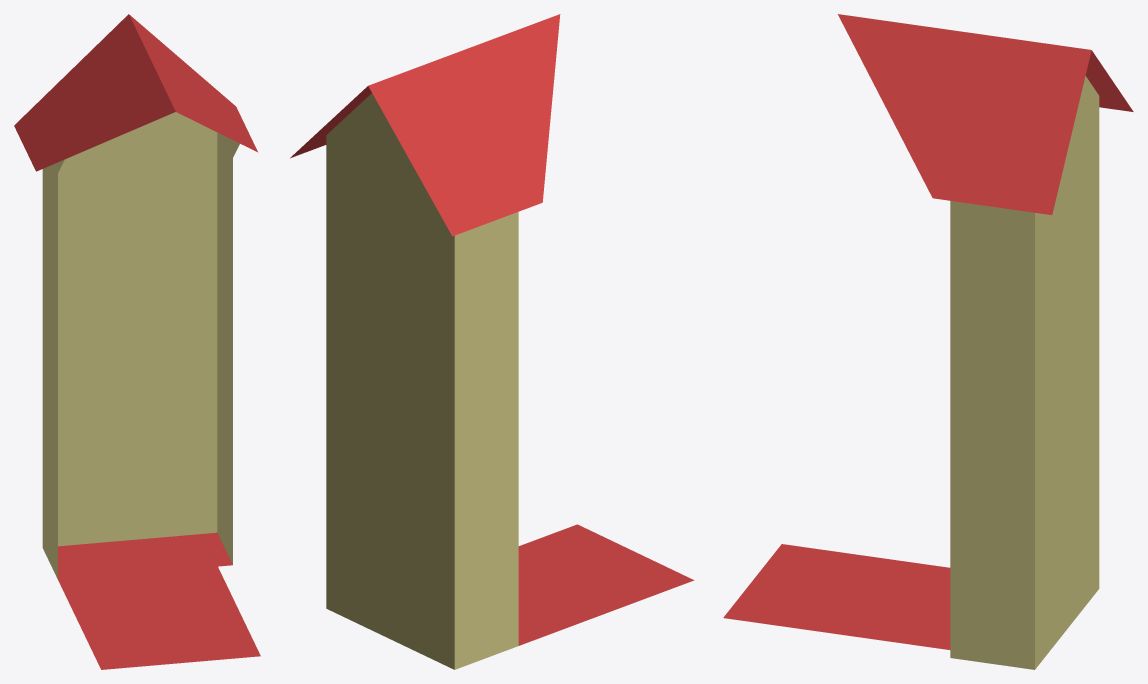
3 views of the same model, side by side, from view 1: azimuth 30°, elevation 25°; view 2: azimuth 150°, elevation 25°; view 3: azimuth 270°, elevation 25° (orthographic). The views are drawn at different scales.
Size of the model in its own units: 6.07 by 7.49 by 11.77.
